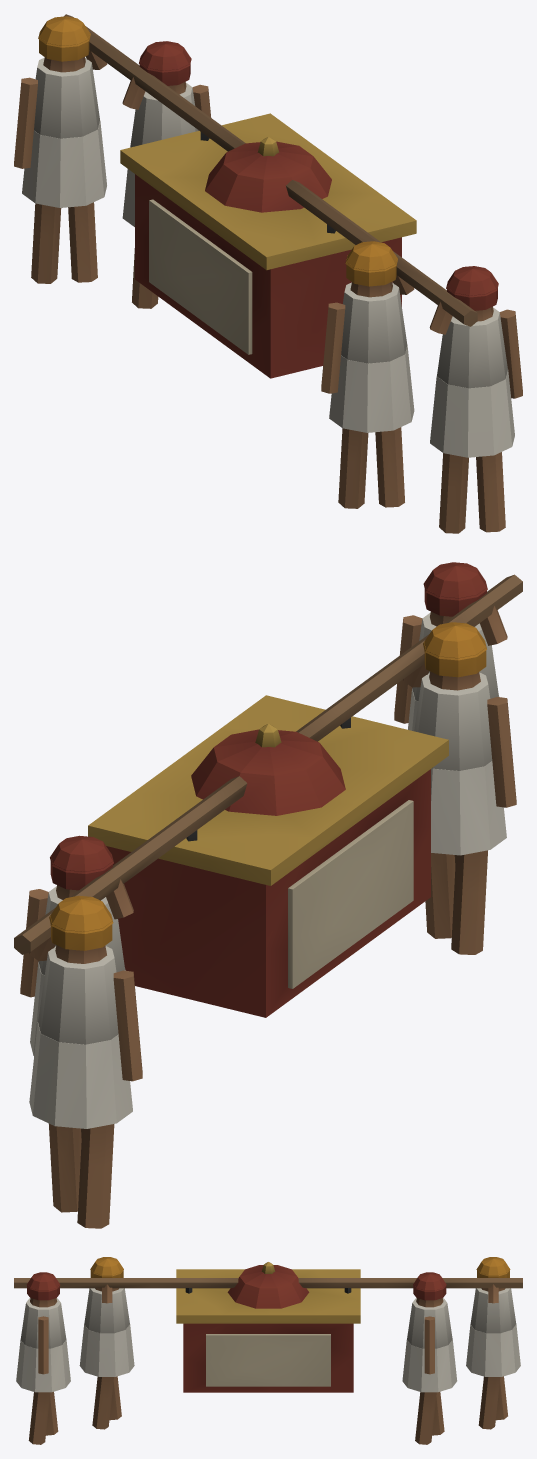
Rendered from litter.glb.
3 renders of one model, top to bottom at view 1: azimuth 30°, elevation 25°; view 2: azimuth 150°, elevation 25°; view 3: azimuth 270°, elevation 25°, orthographic. The views are drawn at different scales.
Parts seen in each view (by area): view 1: base; view 2: base; view 3: base.
Part boxes in pixels (box(x1,y1,x2,y2)): base: box(14, 14, 522, 533); base: box(14, 562, 522, 1228); base: box(14, 1257, 522, 1444).
Size of the model in its own units: 0.9661 by 1.63 by 4.48.
